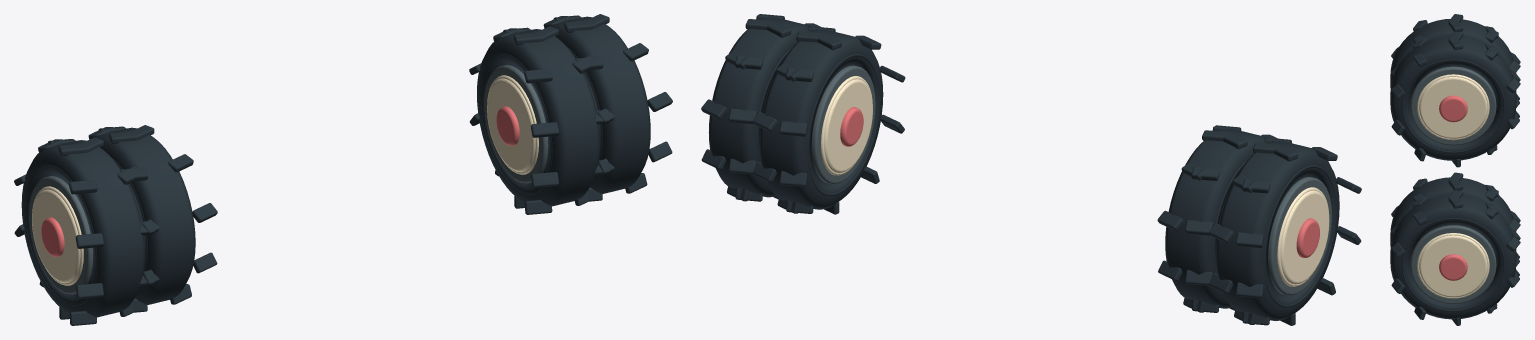
File: broto_wheels_double.glb
3 views of the same model, side by side, from view 1: azimuth 30°, elevation 25°; view 2: azimuth 150°, elevation 25°; view 3: azimuth 270°, elevation 25° (orthographic). The views are drawn at different scales.
Parts seen in each view (by area): view 1: WheelEndL, WheelR, WheelL, WheelEndR; view 2: WheelR, WheelEndL, WheelL, WheelEndR; view 3: WheelL, WheelEndR, WheelR, WheelEndL.
Part boxes in pixels (x1=…): WheelEndL: x1=14, y1=137, x2=159, y2=325; WheelR: x1=469, y1=26, x2=614, y2=214; WheelL: x1=88, y1=125, x2=217, y2=312; WheelEndR: x1=543, y1=14, x2=672, y2=201; WheelR: x1=752, y1=27, x2=905, y2=214; WheelEndL: x1=1209, y1=138, x2=1361, y2=325; WheelL: x1=1157, y1=125, x2=1277, y2=312; WheelEndR: x1=701, y1=14, x2=821, y2=201; WheelL: x1=1390, y1=31, x2=1520, y2=167; WheelEndR: x1=1390, y1=190, x2=1520, y2=325; WheelR: x1=1390, y1=172, x2=1520, y2=266; WheelEndL: x1=1390, y1=14, x2=1520, y2=107.
Size of the model in its own units: 4.35 by 1.2 by 1.16.
